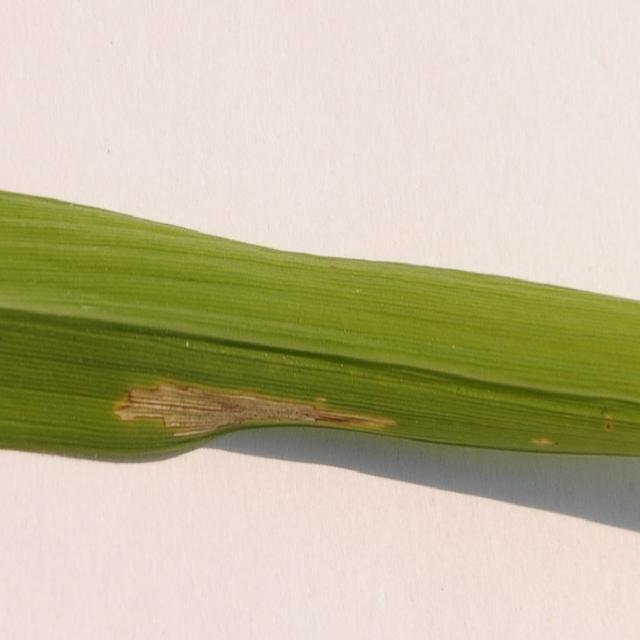bacterial_leaf_blight: (114, 383, 394, 437)
